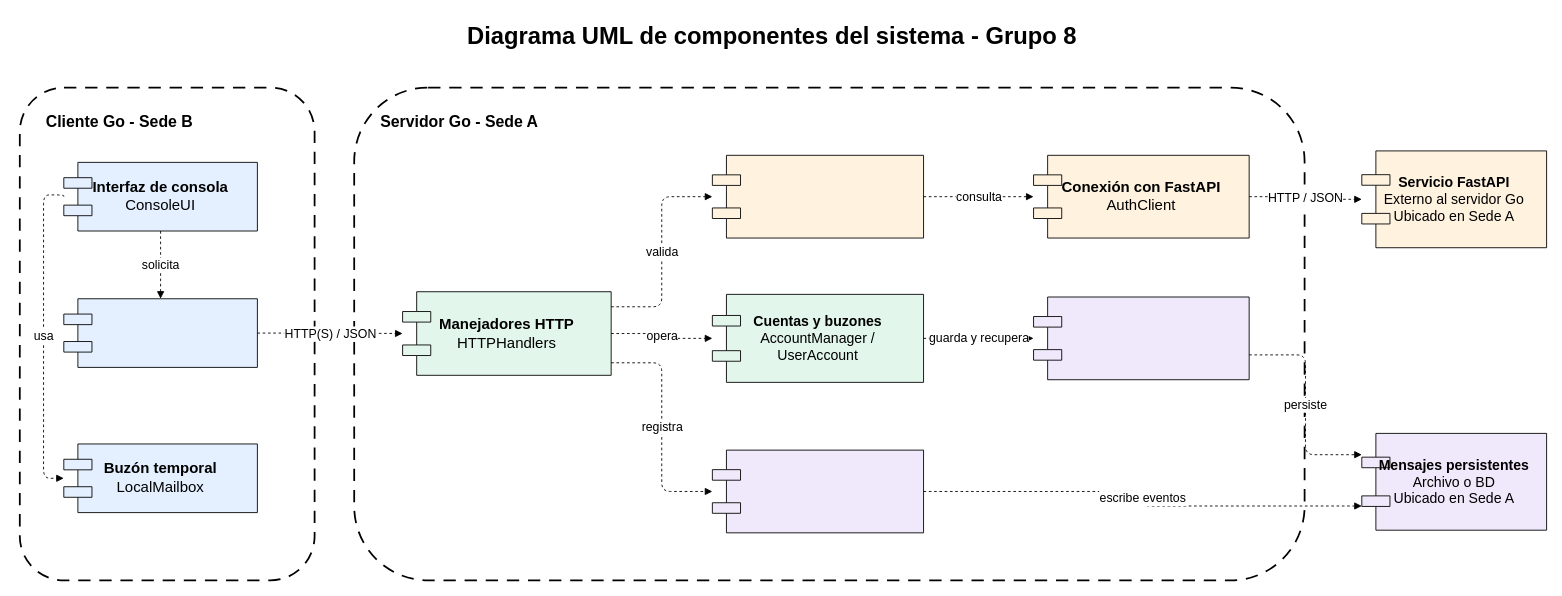
Image size: 1562x596. Some labels were removed from this diagram. Here are the shapes that lost their labels. From the top down, the centre of each, then its label:
At (817,196): "Validación de sesión SessionManager".
At (160,332): "Cliente HTTP MailClient".
At (1141,338): "Almacenamiento Storage".
At (817,491): "Registro de actividad ActivityLog".
